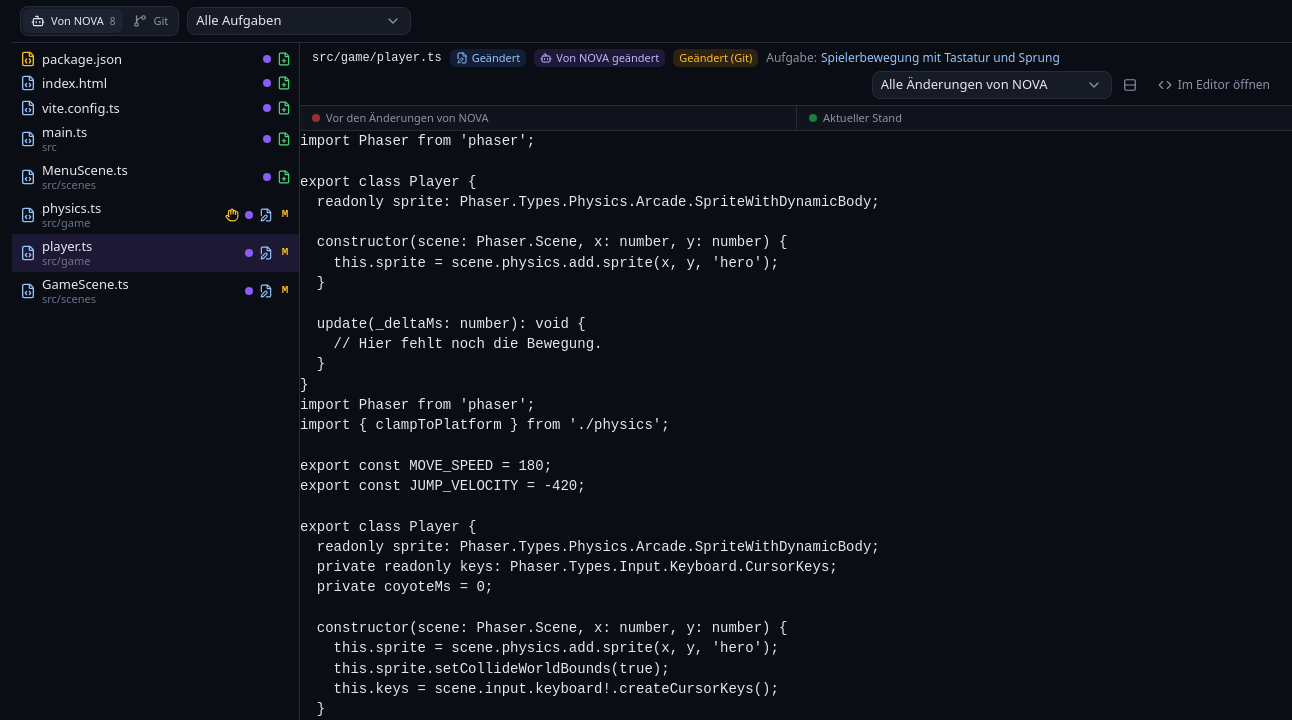
ChangesPanel › says when an older version is no longer stored
Select "Änderung gerade eben · Spielerbewegung mit Tastatur un…" in the dropdown named "Vergleichsstand" at coordinates (992, 85), box [872,71,1112,99]
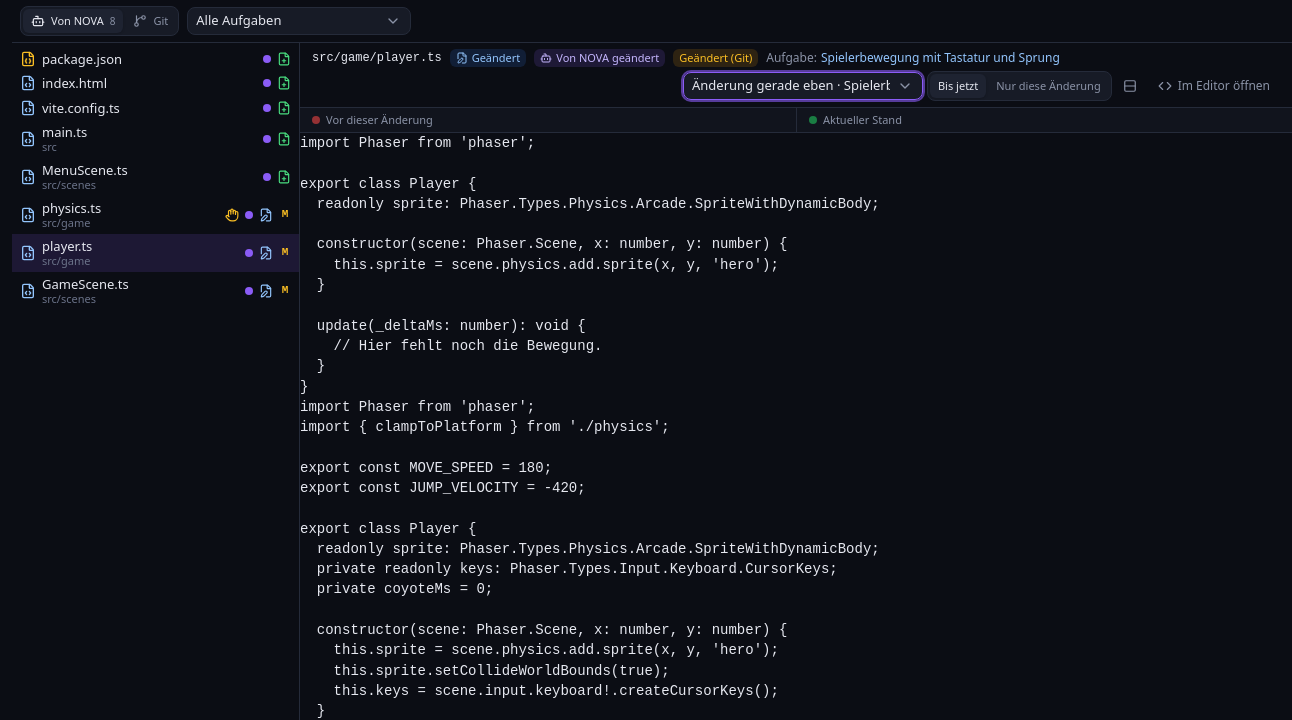
Click the radio button labelled "Nur diese Änderung" at coordinates (1048, 86), box [988,74,1109,98]
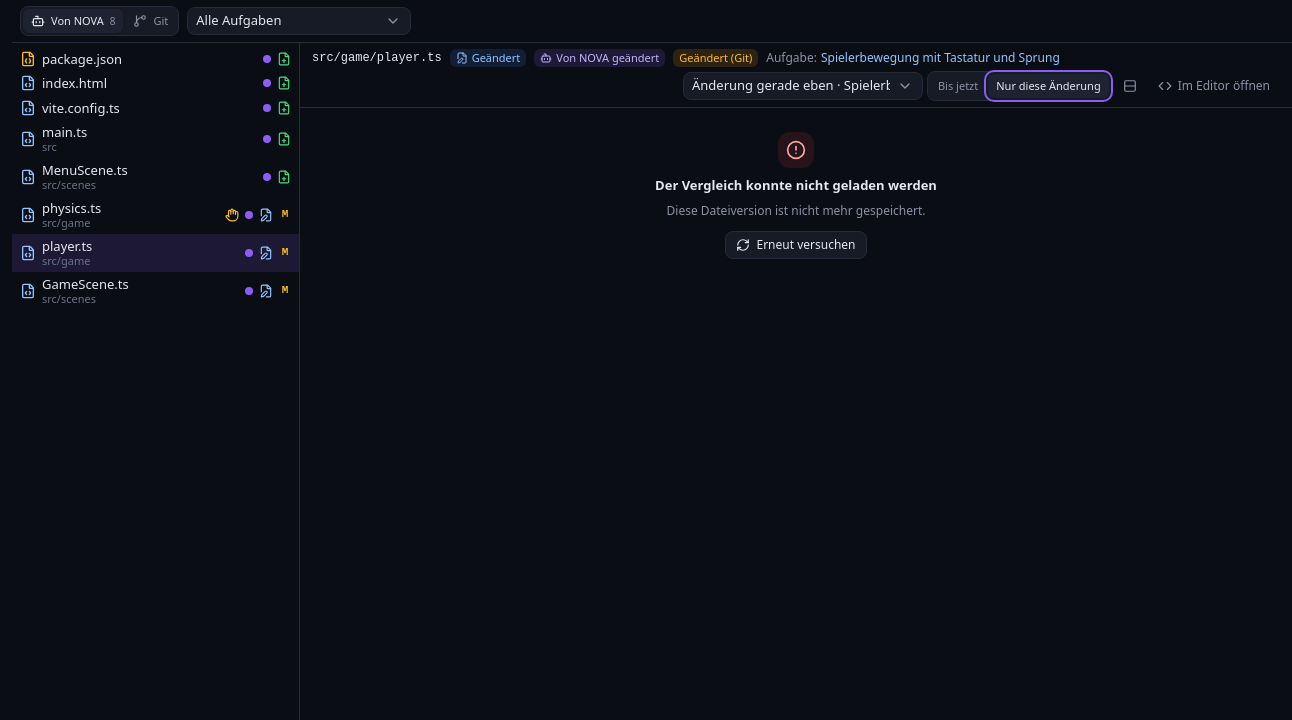
Result: the text "Diese Dateiversion ist nicht mehr gespeichert." is shown at [666,203,925,219]
Result: the button "Erneut versuchen" is shown at [726,231,866,259]
